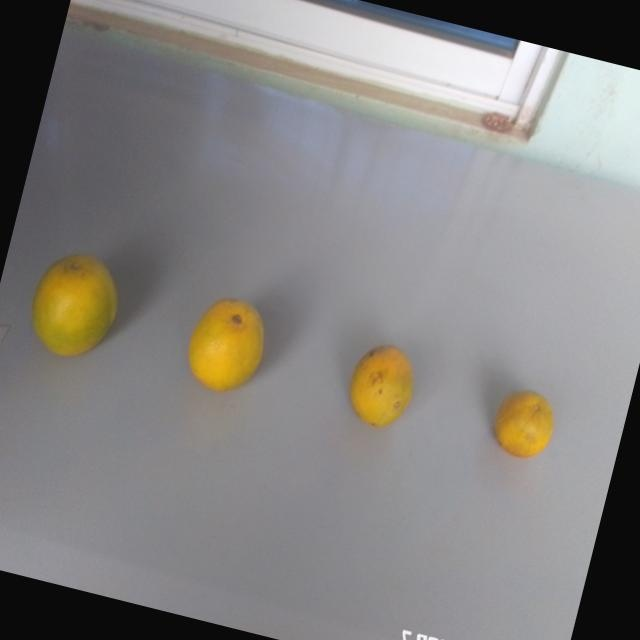agrume: (22, 238, 137, 382), (166, 275, 281, 401), (331, 325, 438, 443), (487, 375, 563, 474)
